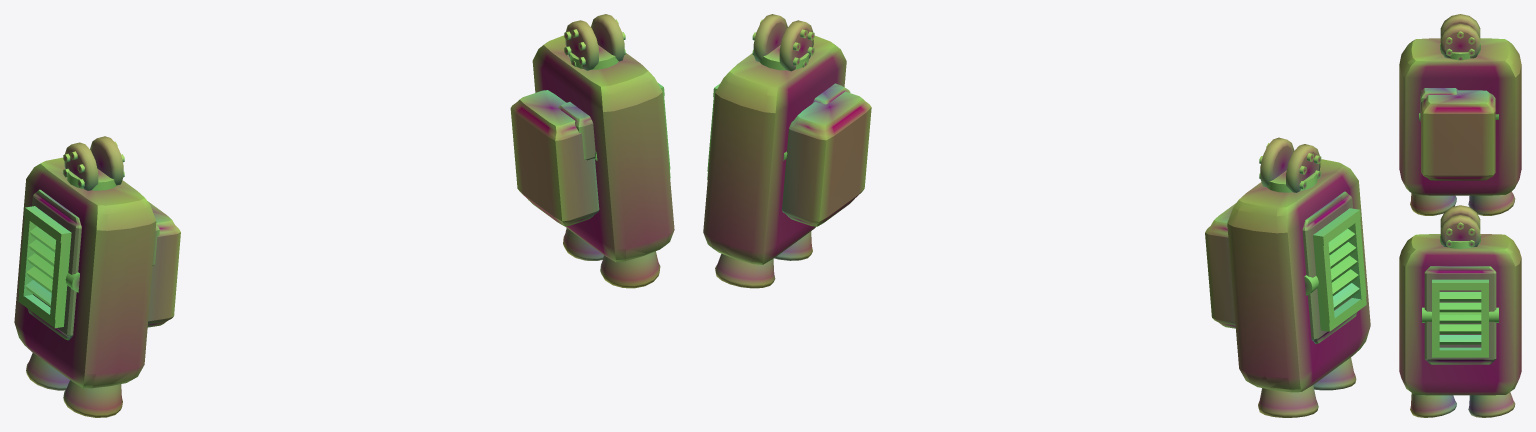
The model's file is llm_gen_leg_thrusters_108_fcb053.glb.
The picture shows the model from 3 angles, left to right: view 1: azimuth 30°, elevation 25°; view 2: azimuth 150°, elevation 25°; view 3: azimuth 270°, elevation 25°; orthographic projection. The views are drawn at different scales.
Parts seen in each view (by area): view 1: flare_cowling_main_0_adapter_dark_l, flare_cowling_main_0_adapter_dark_r, adapter_calf_clamp_r, adapter_sub_flare_louver_gold_3_dark_l, adapter_calf_clamp_l, adapter_sub_louver_frame_dark_1_adapter_dark_l, servo_5_servo_accent_r, servo_5_servo_accent_l, flare_bell_fwd_6_vernier_bell_vernier_l, flare_louver_gold_3_amber_optic_l, flare_bell_fwd_6_vernier_bell_vernier_r, flare_bell_aft_7_vernier_bell_vernier_l (+2 smaller); view 2: flare_cowling_main_0_adapter_dark_l, flare_cowling_main_0_adapter_dark_r, adapter_calf_clamp_r, adapter_sub_flare_louver_gold_3_dark_l, adapter_calf_clamp_l, adapter_sub_louver_frame_dark_1_adapter_dark_l, servo_5_servo_accent_r, servo_5_servo_accent_l, flare_louver_gold_3_amber_optic_l, flare_bell_aft_7_vernier_bell_vernier_l, flare_bell_aft_7_vernier_bell_vernier_r, flare_bell_fwd_6_vernier_bell_vernier_l (+1 smaller); view 3: flare_cowling_main_0_adapter_dark_r, flare_cowling_main_0_adapter_dark_l, adapter_calf_clamp_l, adapter_sub_louver_frame_dark_1_adapter_dark_r, adapter_sub_flare_louver_gold_3_dark_r, flare_louver_gold_3_amber_optic_r, servo_5_servo_accent_l, servo_5_servo_accent_r, flare_bell_aft_7_vernier_bell_vernier_r, flare_bell_fwd_6_vernier_bell_vernier_r, flare_bell_aft_7_vernier_bell_vernier_l, flare_bell_fwd_6_vernier_bell_vernier_l (+6 smaller).
Part boxes in pixels (x1,y1,x2,y2): flare_cowling_main_0_adapter_dark_l: [14, 157, 156, 388]; flare_cowling_main_0_adapter_dark_r: [532, 35, 674, 262]; adapter_calf_clamp_r: [510, 90, 599, 226]; adapter_sub_flare_louver_gold_3_dark_l: [18, 206, 71, 328]; adapter_calf_clamp_l: [147, 201, 180, 327]; adapter_sub_louver_frame_dark_1_adapter_dark_l: [27, 189, 81, 340]; servo_5_servo_accent_r: [565, 14, 624, 70]; servo_5_servo_accent_l: [64, 136, 123, 190]; flare_bell_fwd_6_vernier_bell_vernier_l: [63, 380, 122, 417]; flare_louver_gold_3_amber_optic_l: [25, 226, 56, 306]; flare_bell_fwd_6_vernier_bell_vernier_r: [600, 251, 660, 288]; flare_bell_aft_7_vernier_bell_vernier_l: [26, 353, 69, 390]; flare_cowling_main_0_adapter_dark_l: [1227, 159, 1370, 392]; flare_cowling_main_0_adapter_dark_r: [703, 35, 846, 264]; adapter_calf_clamp_r: [782, 91, 871, 226]; adapter_sub_flare_louver_gold_3_dark_l: [1313, 208, 1366, 331]; adapter_calf_clamp_l: [1205, 203, 1235, 328]; adapter_sub_louver_frame_dark_1_adapter_dark_l: [1302, 191, 1357, 343]; servo_5_servo_accent_r: [753, 14, 813, 71]; servo_5_servo_accent_l: [1260, 137, 1320, 192]; flare_louver_gold_3_amber_optic_l: [1328, 228, 1359, 309]; flare_bell_aft_7_vernier_bell_vernier_l: [1258, 385, 1318, 417]; flare_bell_aft_7_vernier_bell_vernier_r: [715, 253, 775, 288]; flare_bell_fwd_6_vernier_bell_vernier_l: [1313, 357, 1356, 390]; flare_cowling_main_0_adapter_dark_r: [1399, 234, 1521, 395]; flare_cowling_main_0_adapter_dark_l: [1399, 38, 1521, 195]; adapter_calf_clamp_l: [1421, 90, 1495, 180]; adapter_sub_louver_frame_dark_1_adapter_dark_r: [1424, 266, 1496, 364]; adapter_sub_flare_louver_gold_3_dark_r: [1432, 279, 1488, 357]; flare_louver_gold_3_amber_optic_r: [1439, 292, 1481, 344]; servo_5_servo_accent_l: [1440, 14, 1480, 58]; servo_5_servo_accent_r: [1440, 205, 1480, 246]; flare_bell_aft_7_vernier_bell_vernier_r: [1468, 392, 1515, 417]; flare_bell_fwd_6_vernier_bell_vernier_r: [1410, 393, 1456, 417]; flare_bell_aft_7_vernier_bell_vernier_l: [1468, 191, 1515, 215]; flare_bell_fwd_6_vernier_bell_vernier_l: [1410, 193, 1456, 215].
Size of the model in its own units: 82 by 31.62 by 18.
